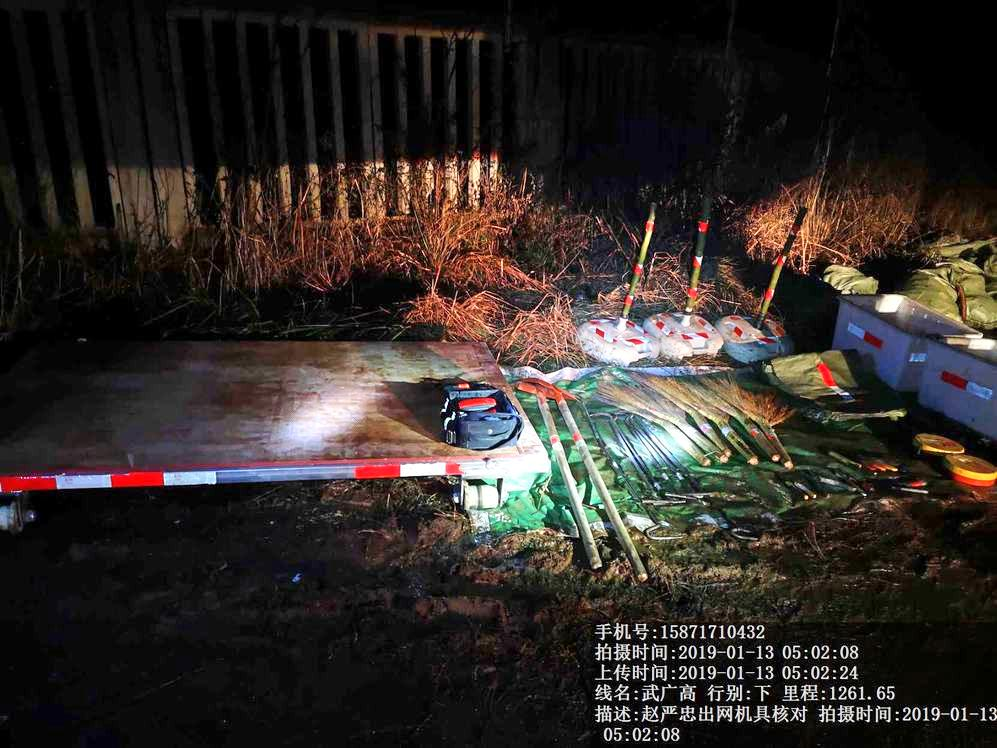BZD: (775, 353, 904, 425)
GJB: (418, 367, 522, 454)
JC: (940, 448, 997, 495), (910, 424, 964, 459)
SB: (709, 369, 812, 468)
ST: (574, 200, 658, 365), (729, 178, 792, 362), (659, 196, 726, 359)
T: (830, 284, 950, 379), (919, 333, 997, 429)
TQ: (522, 376, 633, 584)
